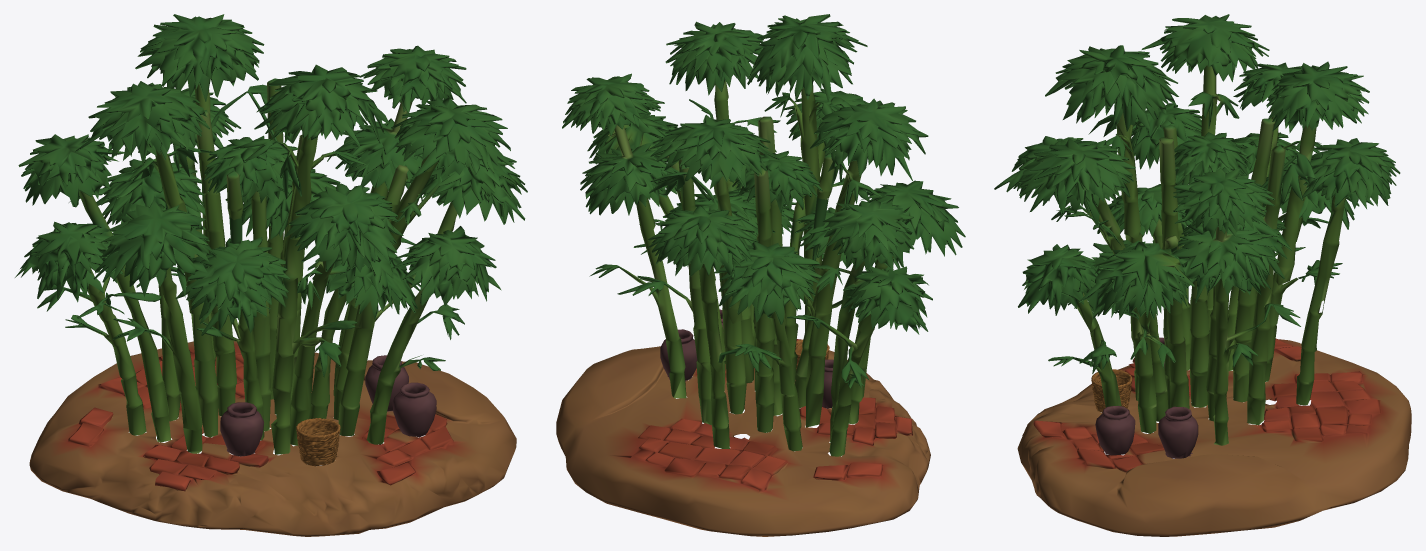
Rendered from bui-tre.dba8e5a3.glb.
3 renders of one model, left to right at view 1: azimuth 30°, elevation 25°; view 2: azimuth 150°, elevation 25°; view 3: azimuth 270°, elevation 25°, orthographic. The views are drawn at different scales.
Visible parts, largest first — view 1: tripo_part_1, tripo_part_4, tripo_part_5, tripo_part_7, tripo_part_3, tripo_part_12, tripo_part_2, tripo_part_0, tripo_part_8, tripo_part_20, tripo_part_11, tripo_part_9 (+22 smaller); view 2: tripo_part_1, tripo_part_5, tripo_part_2, tripo_part_7, tripo_part_4, tripo_part_8, tripo_part_0, tripo_part_10, tripo_part_3, tripo_part_23, tripo_part_21, tripo_part_27 (+20 smaller); view 3: tripo_part_1, tripo_part_2, tripo_part_4, tripo_part_0, tripo_part_8, tripo_part_7, tripo_part_12, tripo_part_10, tripo_part_21, tripo_part_5, tripo_part_3, tripo_part_15 (+20 smaller).
Boxes of the visible parts, x1,y1,x2,y2 form: tripo_part_1: [29, 341, 516, 536]; tripo_part_4: [232, 64, 389, 454]; tripo_part_5: [15, 134, 170, 442]; tripo_part_7: [75, 81, 217, 437]; tripo_part_3: [93, 200, 216, 453]; tripo_part_12: [367, 226, 501, 444]; tripo_part_2: [333, 102, 527, 395]; tripo_part_0: [386, 97, 514, 253]; tripo_part_8: [135, 14, 264, 254]; tripo_part_20: [284, 183, 403, 272]; tripo_part_11: [175, 215, 289, 335]; tripo_part_9: [290, 248, 420, 445]; tripo_part_1: [556, 339, 930, 536]; tripo_part_5: [808, 200, 932, 442]; tripo_part_2: [580, 109, 686, 398]; tripo_part_7: [805, 98, 928, 427]; tripo_part_4: [746, 14, 867, 331]; tripo_part_8: [649, 114, 779, 323]; tripo_part_0: [665, 21, 780, 191]; tripo_part_10: [648, 205, 758, 276]; tripo_part_3: [848, 180, 965, 424]; tripo_part_23: [714, 242, 821, 314]; tripo_part_21: [562, 73, 664, 136]; tripo_part_27: [754, 167, 774, 432]; tripo_part_1: [1017, 338, 1411, 536]; tripo_part_2: [1079, 223, 1279, 445]; tripo_part_4: [1045, 45, 1178, 400]; tripo_part_0: [1019, 138, 1135, 254]; tripo_part_8: [1266, 61, 1369, 285]; tripo_part_7: [1141, 14, 1269, 330]; tripo_part_12: [1018, 244, 1121, 407]; tripo_part_10: [1299, 138, 1400, 208]; tripo_part_21: [1173, 167, 1274, 238]; tripo_part_5: [1227, 62, 1321, 371]; tripo_part_3: [1111, 103, 1201, 370]; tripo_part_15: [1296, 195, 1346, 405].
Bounding box in the file's own units: 0.976 × 0.9061 × 0.8736.
